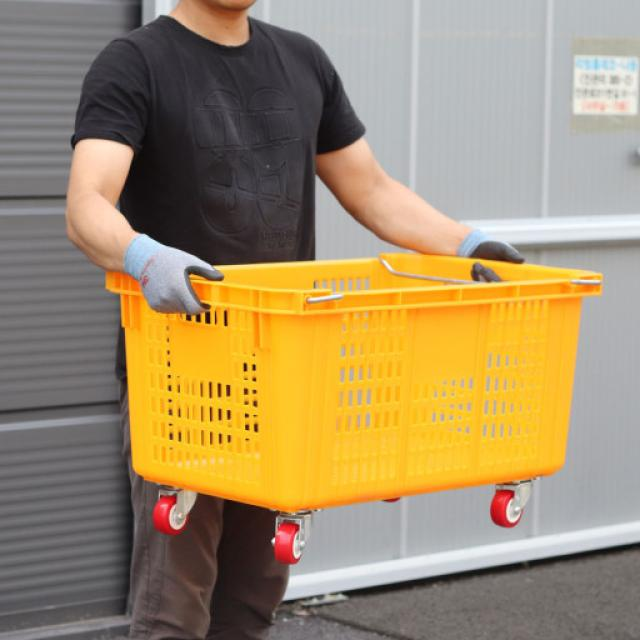basket: (107, 246, 613, 519)
